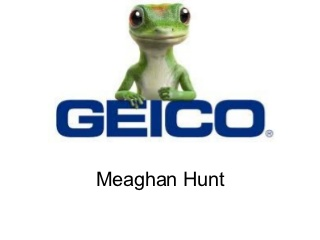geico: (54, 98, 279, 144)
